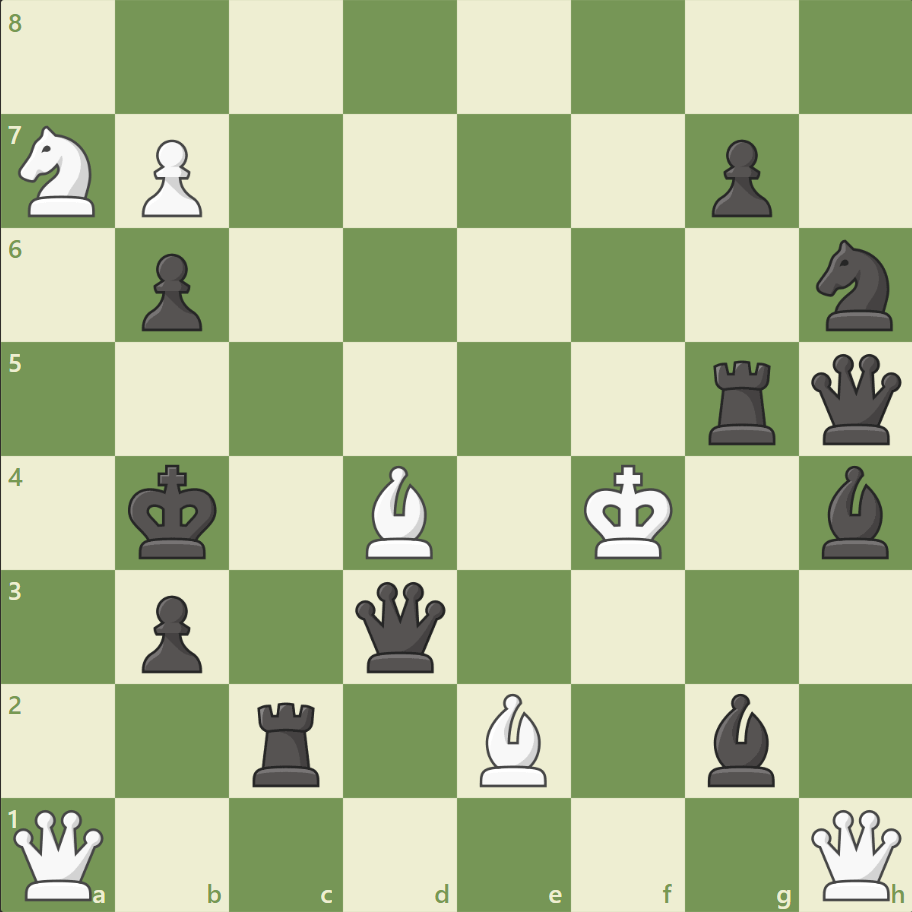B: (358, 460, 442, 563), (471, 687, 555, 790)
K: (579, 458, 679, 566)
N: (11, 121, 108, 223)
P: (133, 132, 208, 223)
Q: (10, 804, 109, 903), (805, 804, 904, 903)
b: (812, 460, 896, 563), (698, 687, 782, 790)
k: (124, 458, 224, 566)
n: (806, 234, 903, 337)
p: (701, 132, 776, 223), (133, 246, 208, 337), (133, 586, 208, 677)
q: (805, 349, 904, 449), (351, 576, 450, 676)
r: (700, 352, 783, 449), (246, 693, 329, 790)
